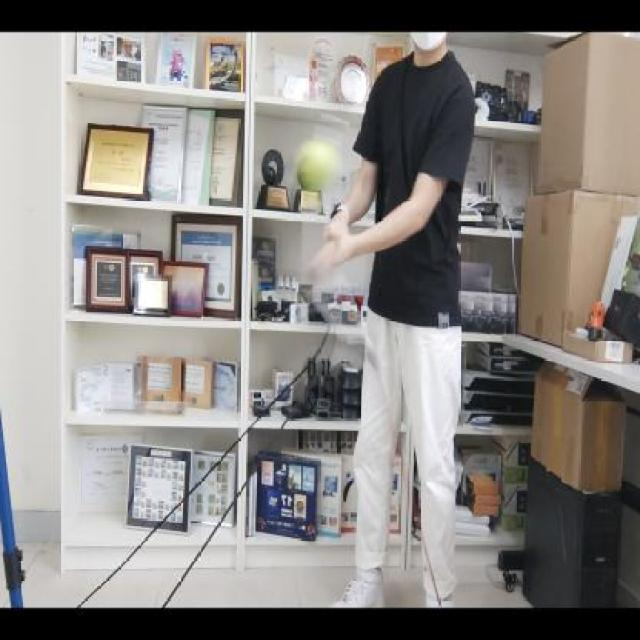baseball: (290, 137, 344, 195)
